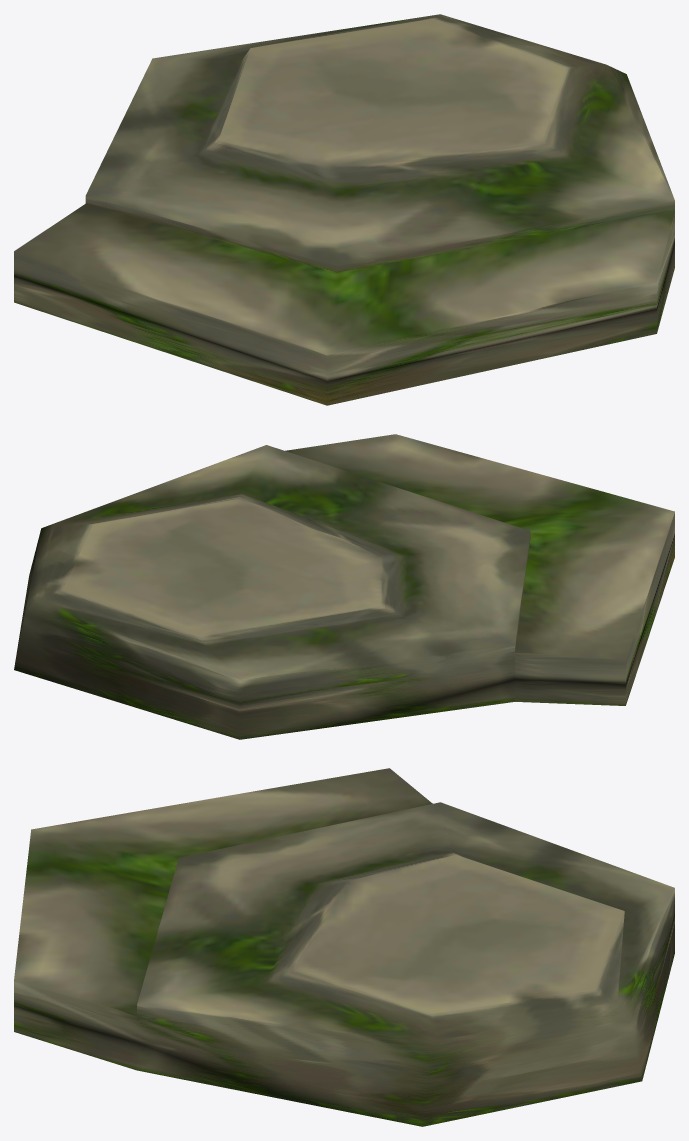
The model's file is RockFormation_4_5 (9).fbx.
3 views of the same model, one above another, from view 1: azimuth 30°, elevation 25°; view 2: azimuth 150°, elevation 25°; view 3: azimuth 270°, elevation 25° (orthographic). The views are drawn at different scales.
Parts seen in each view (by area): view 1: RockFormation_4_5 (9); view 2: RockFormation_4_5 (9); view 3: RockFormation_4_5 (9).
Part boxes in pixels (<box>): RockFormation_4_5 (9): <box>14,14,674,405</box>; RockFormation_4_5 (9): <box>14,434,674,739</box>; RockFormation_4_5 (9): <box>14,768,674,1126</box>.
Bounding box in the file's own units: 2473 × 287 × 2237.
